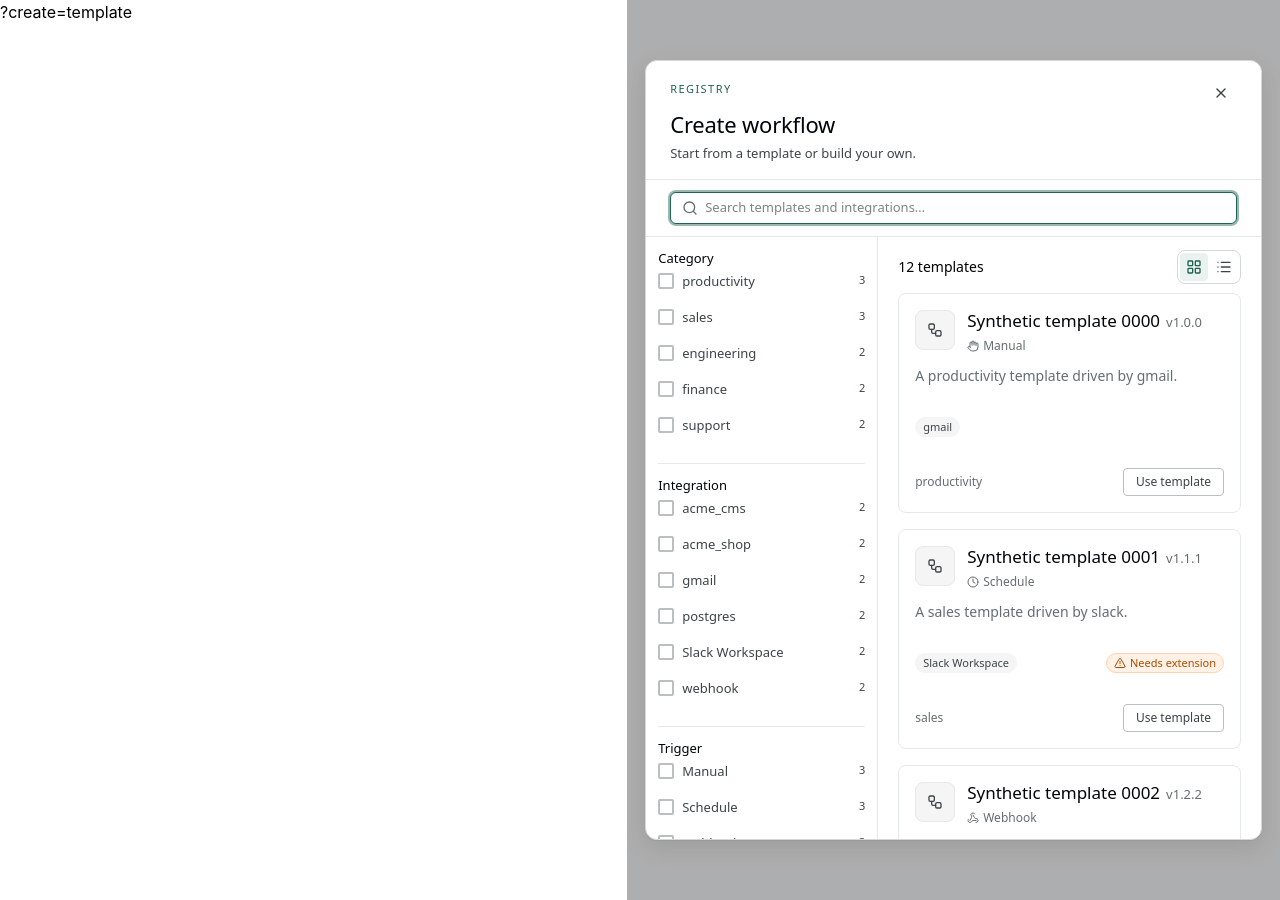
Test case: facets narrow with OR inside and AND between, and live in the URL
The width and height of the screenshot is (1280, 900).
Expected: the heading "12 templates" is shown, 898,256 -> 984,278
Click the checkbox labelled "Slack Workspace" at (721, 657), box 658,643 -> 784,671
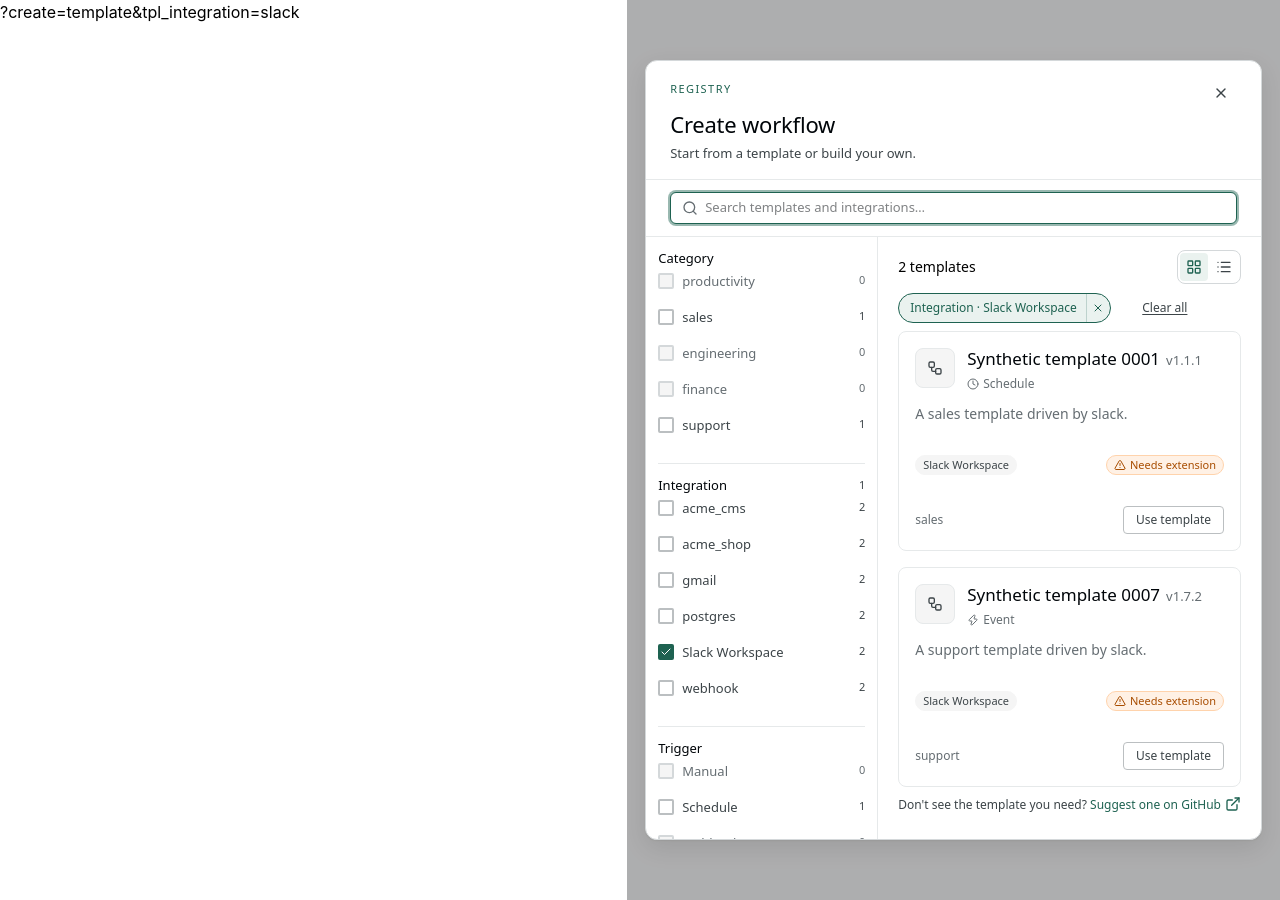
Expected: the heading "2 templates" is shown, 898,256 -> 976,278
Click the checkbox labelled "gmail" at (710, 585), box 658,571 -> 761,599
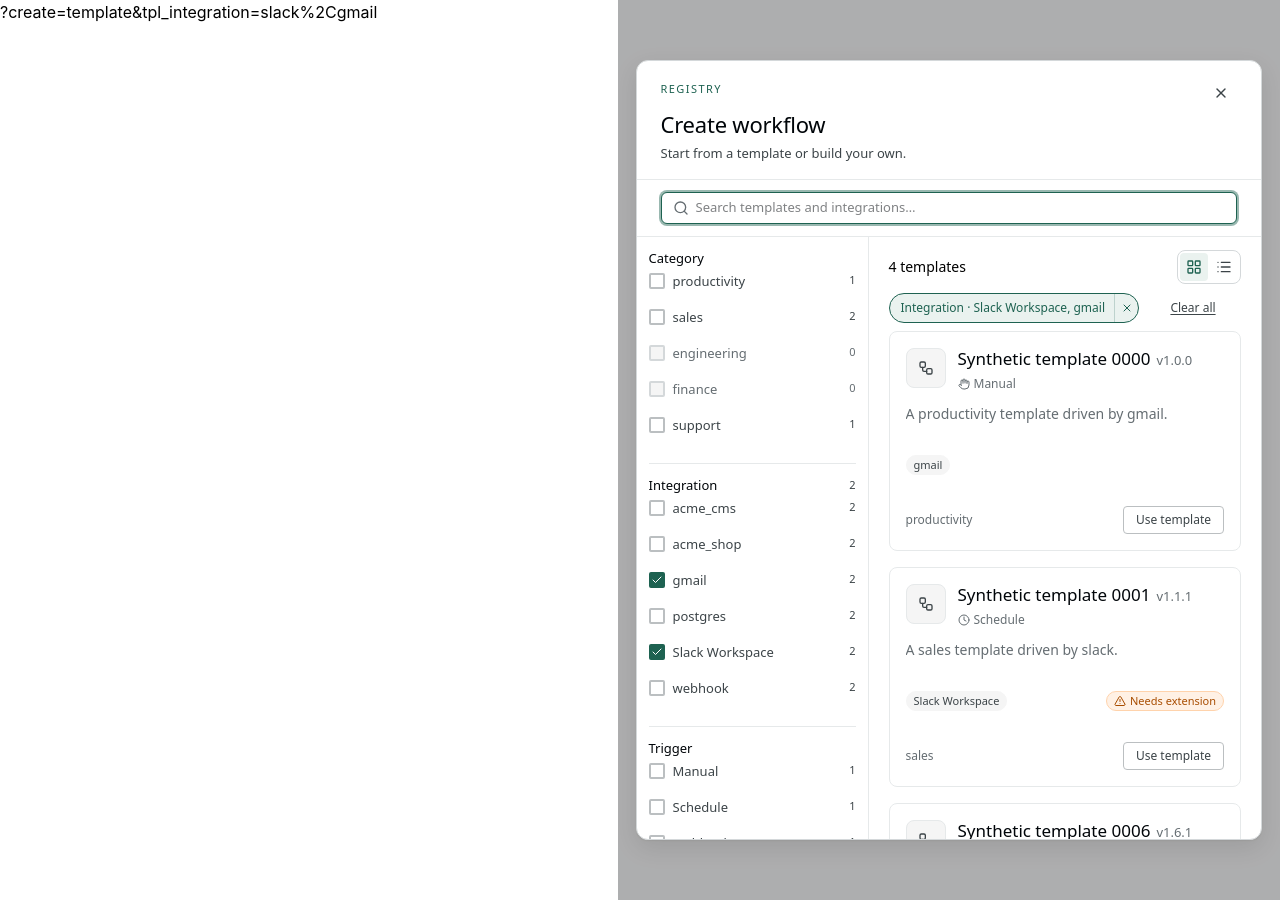
Result: the heading "4 templates" is shown at 888,256 -> 966,278
Result: the text with test id "location" shows "tpl_integration=slack%2Cgmail" at 0,2 -> 377,22
Click the checkbox labelled "Schedule" at (697, 812), box 648,798 -> 745,826
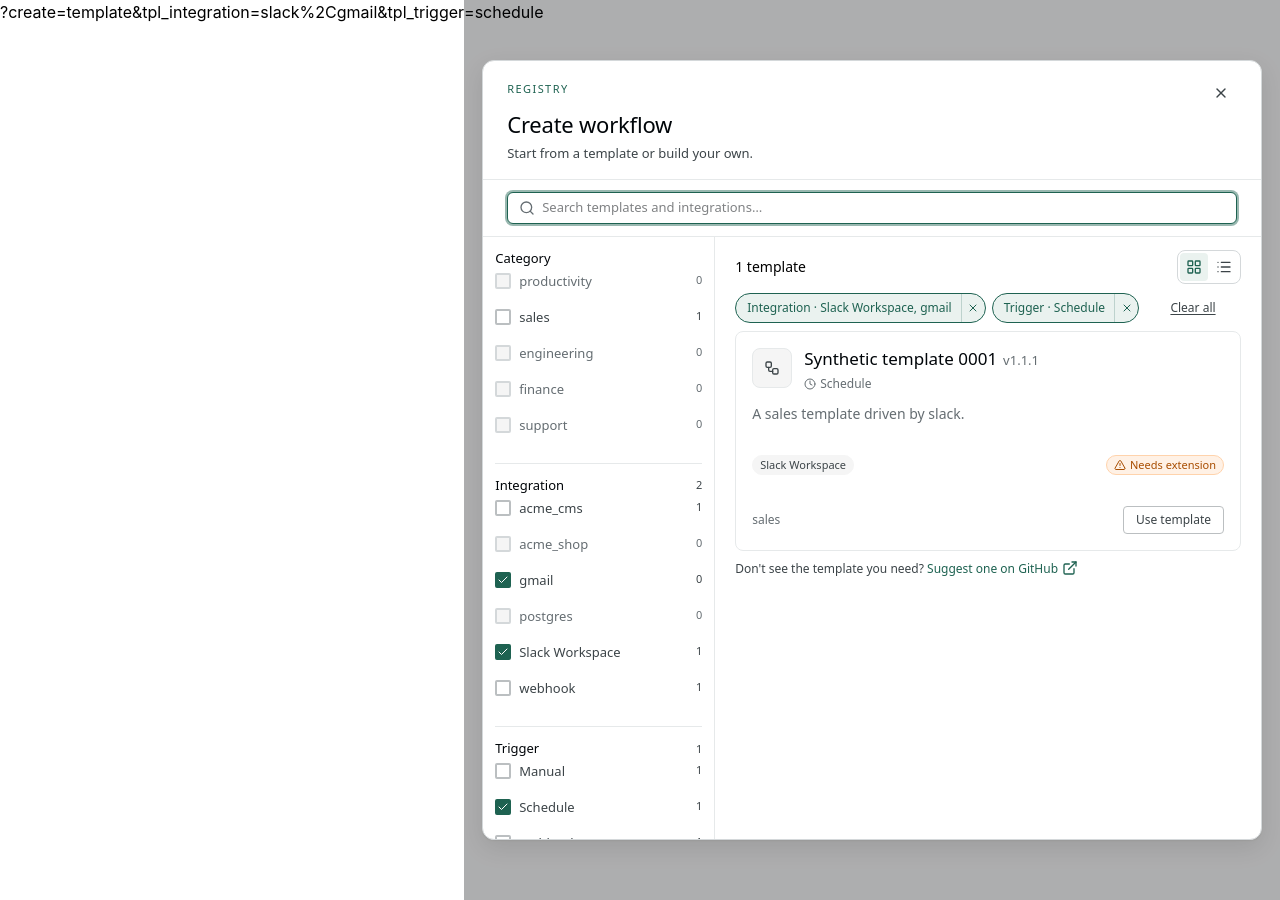
Result: the text "Integration · Slack Workspace, gmail" is shown at 736,298 -> 961,318
Result: the heading "1 template" is shown at 735,256 -> 806,278
Click the button "Clear all" at (1193, 308), box 1145,293 -> 1241,323
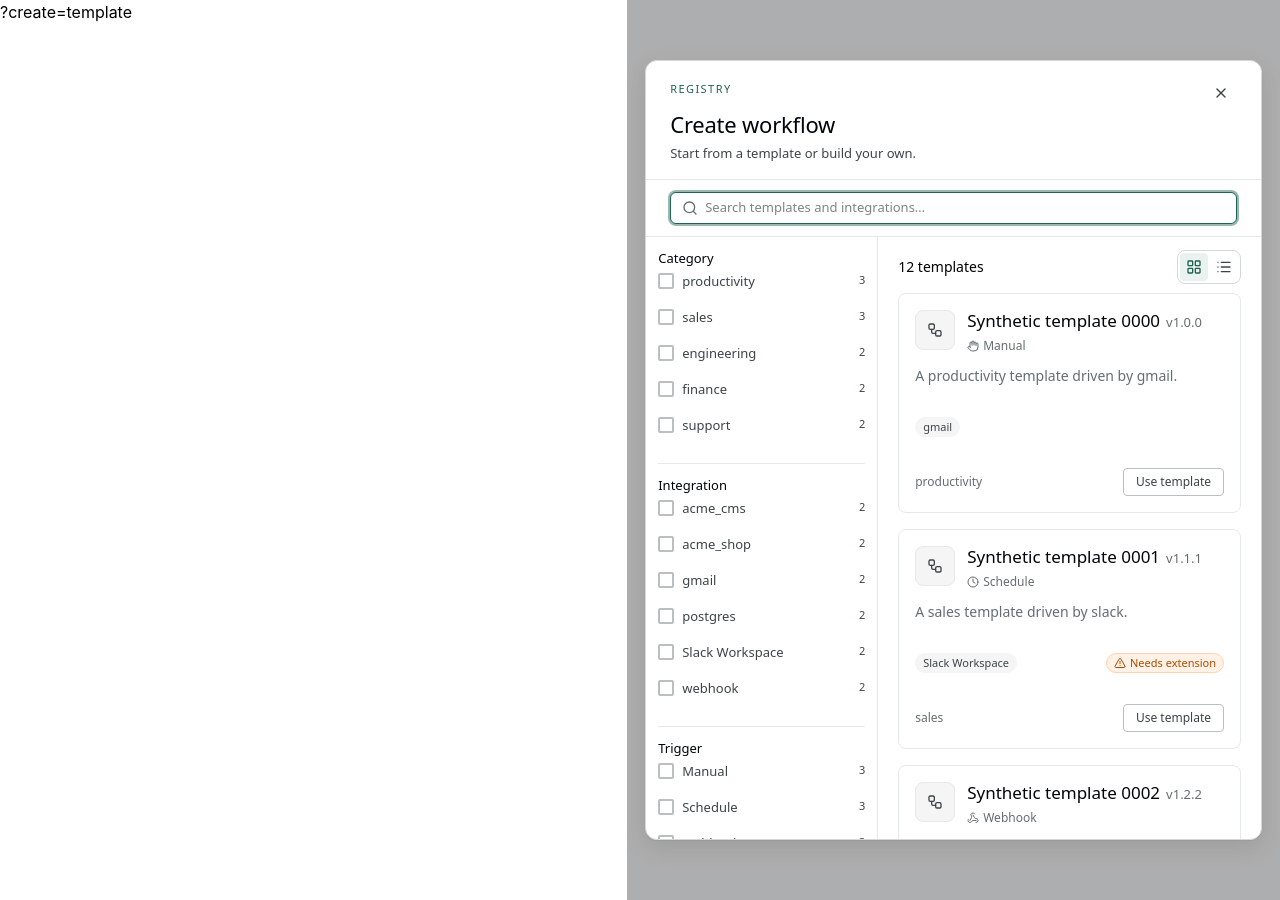
Result: the heading "12 templates" is shown at 898,256 -> 984,278
